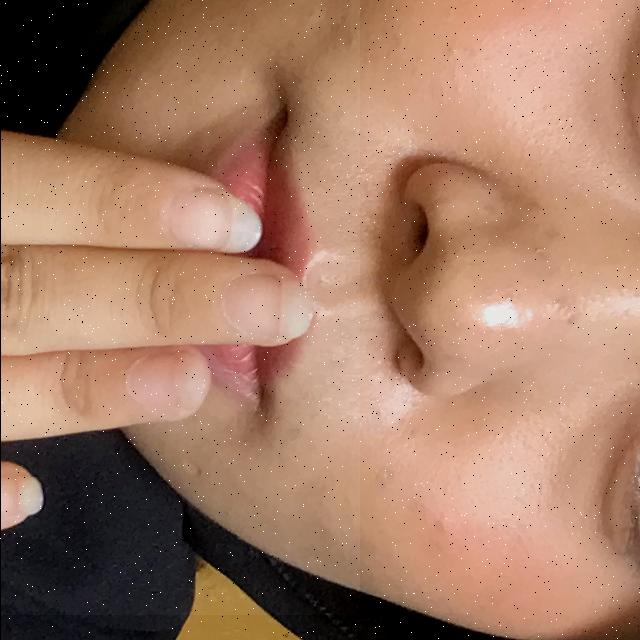ganteng: (0, 0, 359, 615)
